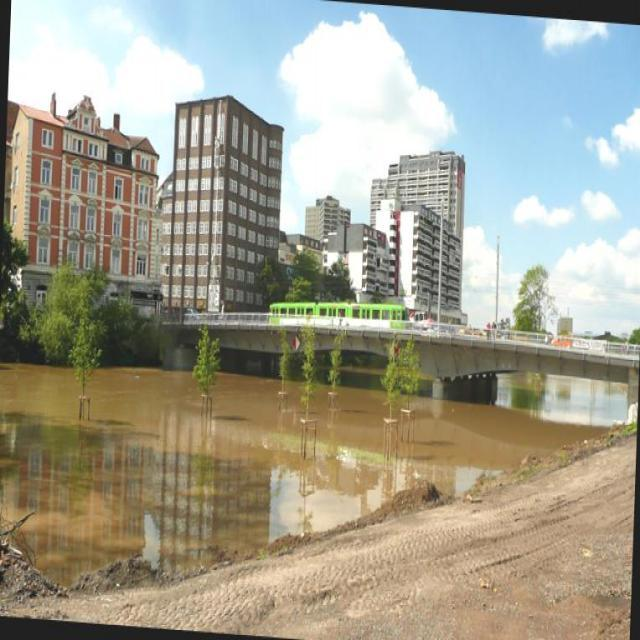flood: (0, 329, 630, 639)
